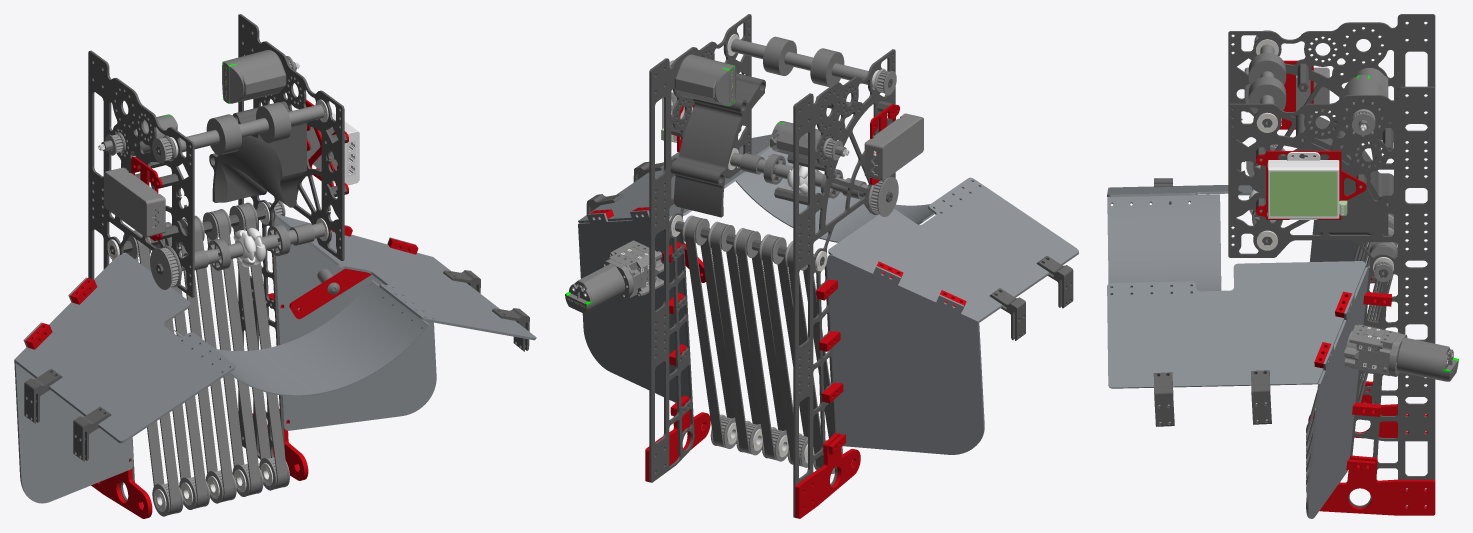
The model's file is robot-2026-feeder-queuer.glb.
The picture shows the model from 3 angles, left to right: view 1: azimuth 30°, elevation 25°; view 2: azimuth 150°, elevation 25°; view 3: azimuth 270°, elevation 25°; orthographic projection. The views are drawn at different scales.
Parts seen in each view (by area): view 1: Front Hopper Plate (×2), Feeder Plate (×2), 165t 5mm Belt (×5), Bottom Hopper Plate (With Battery Cutout), Part 25, Bottom Hopper Plate(Without battery), Feeder Funnel, Kraken X60 Brushless Motor (×2), Robot Radio (VH-109), Hopper Connectors (×3), Part 31 (×2), 2" Solid Urethane Wheel (45A, 1" Wide, 1/2" Hex Bore) (×2) (+5 smaller); view 2: Feeder Plate (×2), Bottom Hopper Plate(Without battery), Front Hopper Plate (×2), 165t 5mm Belt (×5), Bottom Hopper Plate (With Battery Cutout), Feeder Funnel, Part 25, Part 31 (×2), Kraken X60 Brushless Motor (×2), Kraken X44 Brushless Motor (×2), Robot Radio (VH-109), 2" Solid Urethane Wheel (45A, 1" Wide, 1/2" Hex Bore) (×2) (+2 smaller); view 3: Feeder Plate (×2), Front Hopper Plate (×2), Part 25, Bottom Hopper Plate (With Battery Cutout), mesh6280_mesh, Part 31 (×2), Feeder Funnel, Hopper Connectors (×2), Kraken X44 Brushless Motor, 2" Solid Urethane Wheel (45A, 1" Wide, 1/2" Hex Bore) (×2), Kraken X60 Brushless Motor (×2), Switch Plate (+7 smaller).
Part boxes in pixels (x1,y1,x2,y2): Front Hopper Plate (×2): (15,214,536,443); Feeder Plate (×2): (88,14,344,501); 165t 5mm Belt (×5): (134,203,287,515); Bottom Hopper Plate (With Battery Cutout): (273,218,436,430); Part 25: (172,280,429,396); Bottom Hopper Plate(Without battery): (14,255,133,503); Feeder Funnel: (209,101,307,207); Kraken X60 Brushless Motor (×2): (222,50,299,103); Robot Radio (VH-109): (104,167,165,237); Hopper Connectors (×3): (24,308,529,461); Part 31 (×2): (91,410,308,518); 2" Solid Urethane Wheel (45A, 1" Wide, 1/2" Hex Bore) (×2): (206,102,291,155); Feeder Plate (×2): (649,14,895,517); Bottom Hopper Plate(Without battery): (827,254,984,454); Front Hopper Plate (×2): (578,134,1078,322); 165t 5mm Belt (×5): (684,216,833,469); Bottom Hopper Plate (With Battery Cutout): (578,210,689,402); Feeder Funnel: (670,73,765,217); Part 25: (735,147,934,242); Part 31 (×2): (645,396,860,518); Kraken X60 Brushless Motor (×2): (674,54,736,106); Kraken X44 Brushless Motor (×2): (565,121,849,313); Robot Radio (VH-109): (864,113,923,180); 2" Solid Urethane Wheel (45A, 1" Wide, 1/2" Hex Bore) (×2): (763,36,844,86); Feeder Plate (×2): (1228,14,1435,507); Front Hopper Plate (×2): (1107,185,1366,388); Part 25: (1107,194,1221,295); Bottom Hopper Plate (With Battery Cutout): (1306,267,1368,518); mesh6280_mesh: (1267,152,1347,219); Part 31 (×2): (1308,381,1435,515); Feeder Funnel: (1296,113,1393,235); Hopper Connectors (×2): (1153,370,1271,426); Kraken X44 Brushless Motor: (1397,337,1458,381); 2" Solid Urethane Wheel (45A, 1" Wide, 1/2" Hex Bore) (×2): (1248,52,1286,114); Kraken X60 Brushless Motor (×2): (1339,74,1387,135); Switch Plate: (1256,151,1366,219).
Size of the model in its own units: 0.6923 by 0.635 by 0.4752.
